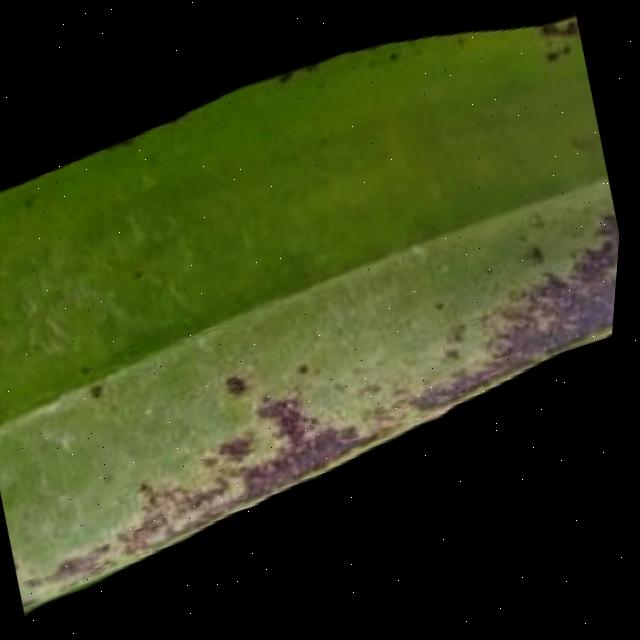mite: (154, 3, 624, 469), (478, 15, 624, 313), (203, 342, 344, 479), (220, 341, 334, 417), (72, 347, 125, 415), (534, 18, 586, 78), (220, 362, 267, 412), (293, 351, 331, 392), (540, 20, 581, 55), (87, 375, 119, 407), (527, 245, 557, 278), (229, 371, 259, 403), (130, 259, 159, 288), (545, 46, 577, 72), (296, 358, 322, 384), (532, 248, 553, 272), (93, 380, 116, 401), (81, 360, 101, 382), (136, 265, 153, 284), (302, 362, 319, 380), (389, 52, 406, 68), (84, 363, 98, 379)
